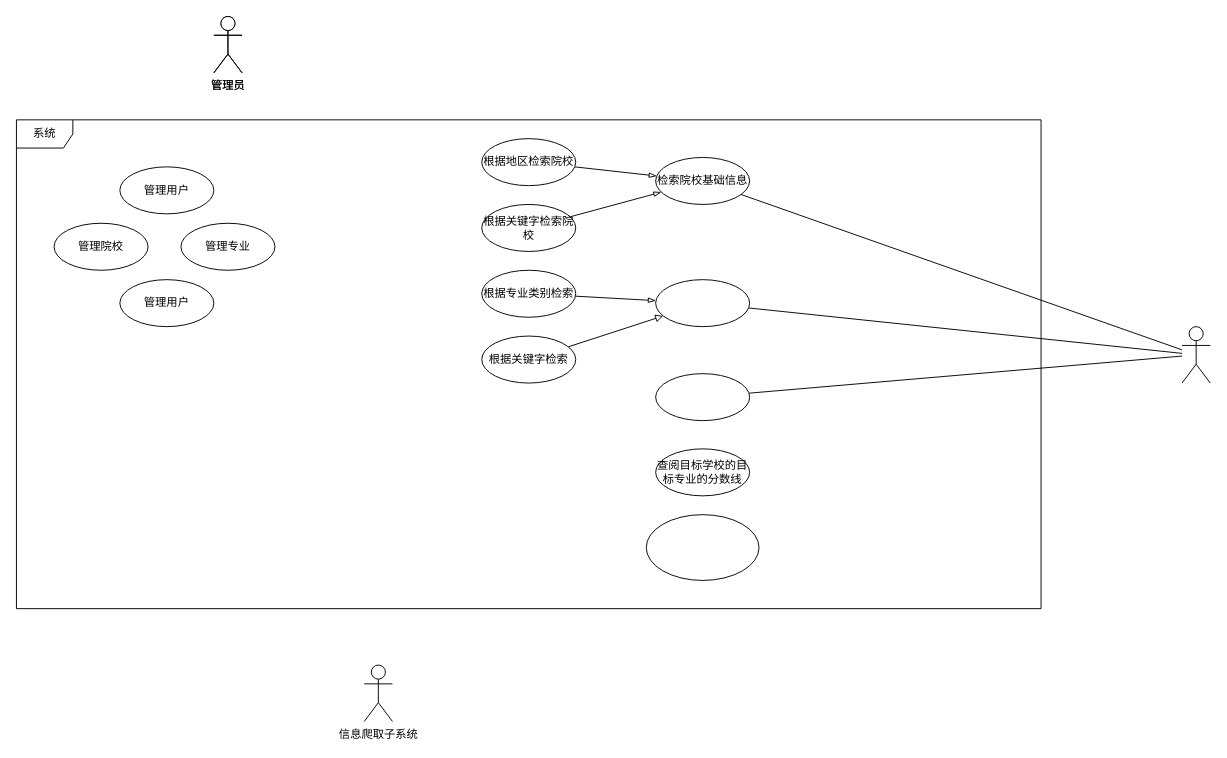
The diagram is 1227 pixels wide and 758 high, and some of its shapes have lost their labels. Here are the shapes that lost their labels. From the top down, the centre of each, then its label:
At [702,303]: "检索专业".
At [1195,354]: "用户".
At [702,397]: "关注目标院校".
At [702,547]: "查阅目标院校的目标专业的报考录取比".
